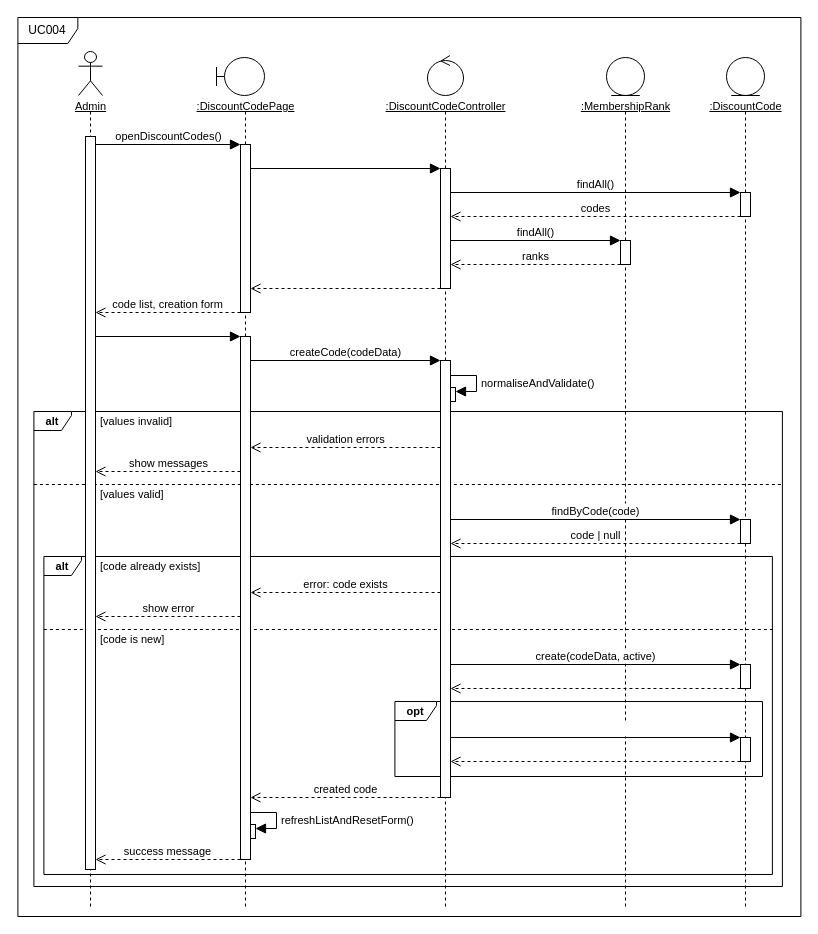
Some shapes in this 818 by 934 pixel diagram are drawn without their labels. The shapes that lost their labels are listed below. From the top down, each one's centre as x and y in pixels, then its label:
the point at 345,159: loadPage()
the point at 345,279: codes, ranks
the point at 167,327: submit(codeData)
the point at 595,679: code
the point at 496,710: [ranks selected]
the point at 595,728: addEligibleRanks(ranks)
the point at 595,752: links
